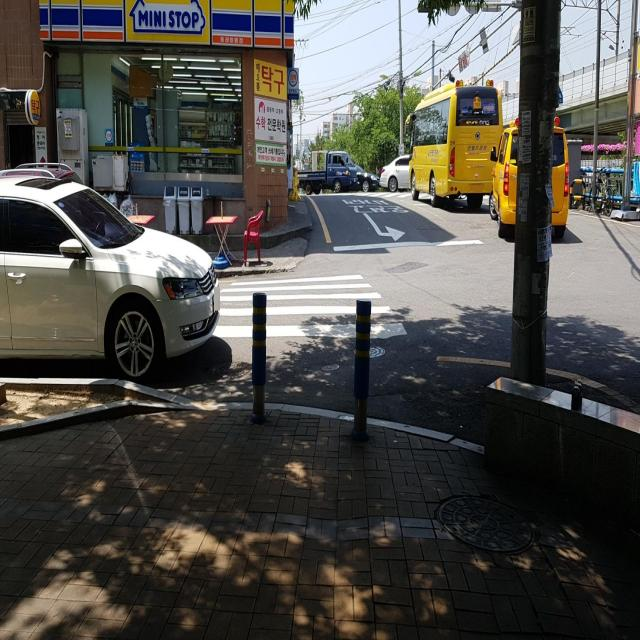횡단보도: (210, 273, 408, 341)
